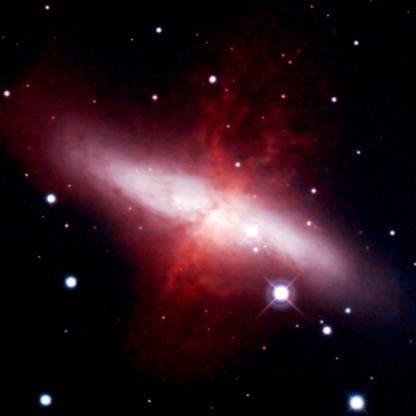Messier 82: (10, 72, 389, 332)
